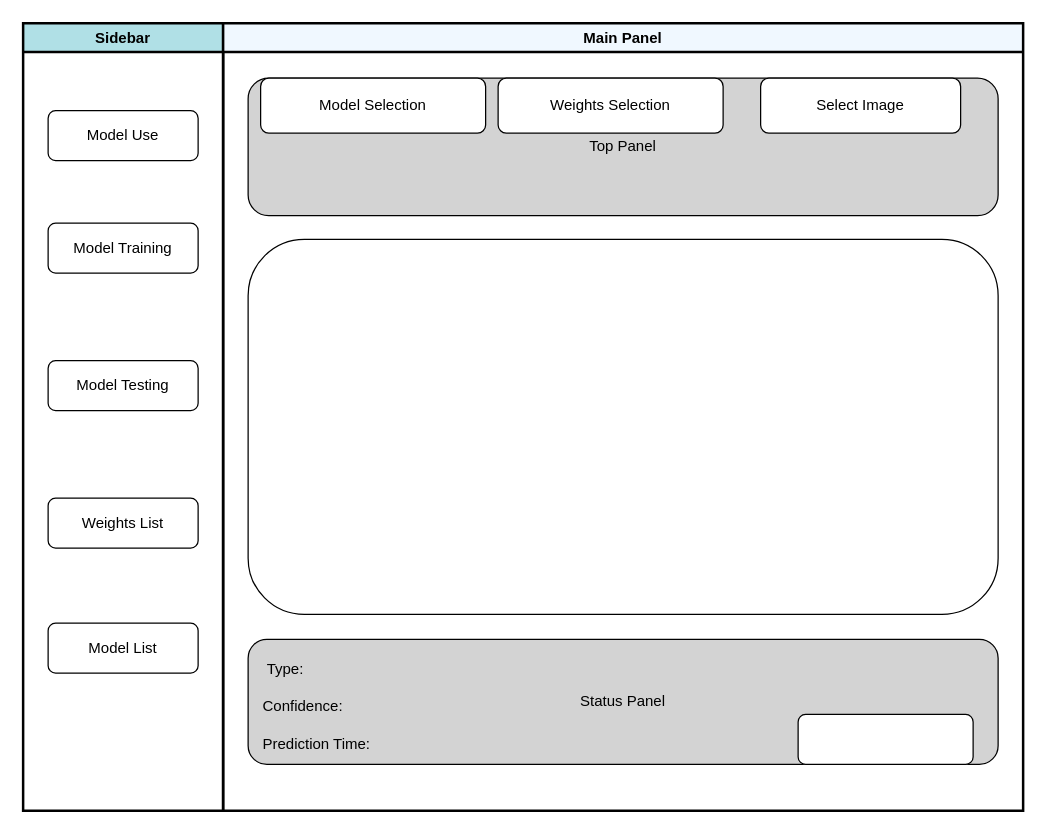
Some shapes in this 1045 by 833 pixel diagram are drawn without their labels. The shapes that lost their labels are listed below. From the top down, each one's centre as x and y in pixels, then its label:
At (622,426): "Please select an image to display".
At (885,738): "Start Recognition".
